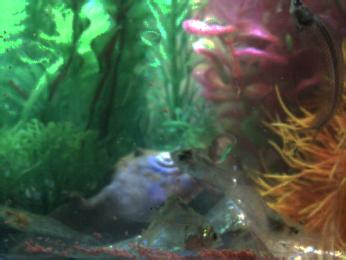X-ray fish: (171, 145, 235, 186), (154, 214, 220, 250), (142, 192, 180, 246)
glassfish: (284, 1, 344, 141)
siberian prawn: (217, 172, 306, 242), (4, 204, 97, 246)
